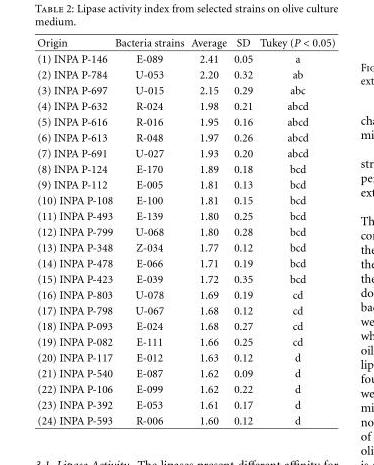table: (36, 36, 334, 426)
table column: (255, 36, 334, 426), (36, 36, 113, 426), (113, 36, 186, 426), (186, 36, 229, 426), (229, 36, 255, 426)
table column header: (36, 36, 334, 50)
table row: (36, 50, 334, 66), (36, 66, 334, 82), (36, 97, 334, 113), (36, 113, 334, 129), (36, 129, 334, 145), (36, 160, 334, 176), (36, 176, 334, 192), (36, 192, 334, 208), (36, 223, 334, 239), (36, 239, 334, 255), (36, 270, 334, 286), (36, 286, 334, 302), (36, 302, 334, 318), (36, 333, 334, 349), (36, 349, 334, 365), (36, 380, 334, 396), (36, 396, 334, 412), (36, 82, 334, 97), (36, 145, 334, 160), (36, 208, 334, 223), (36, 255, 334, 270), (36, 318, 334, 333), (36, 365, 334, 380), (36, 36, 334, 50), (36, 412, 334, 426)
